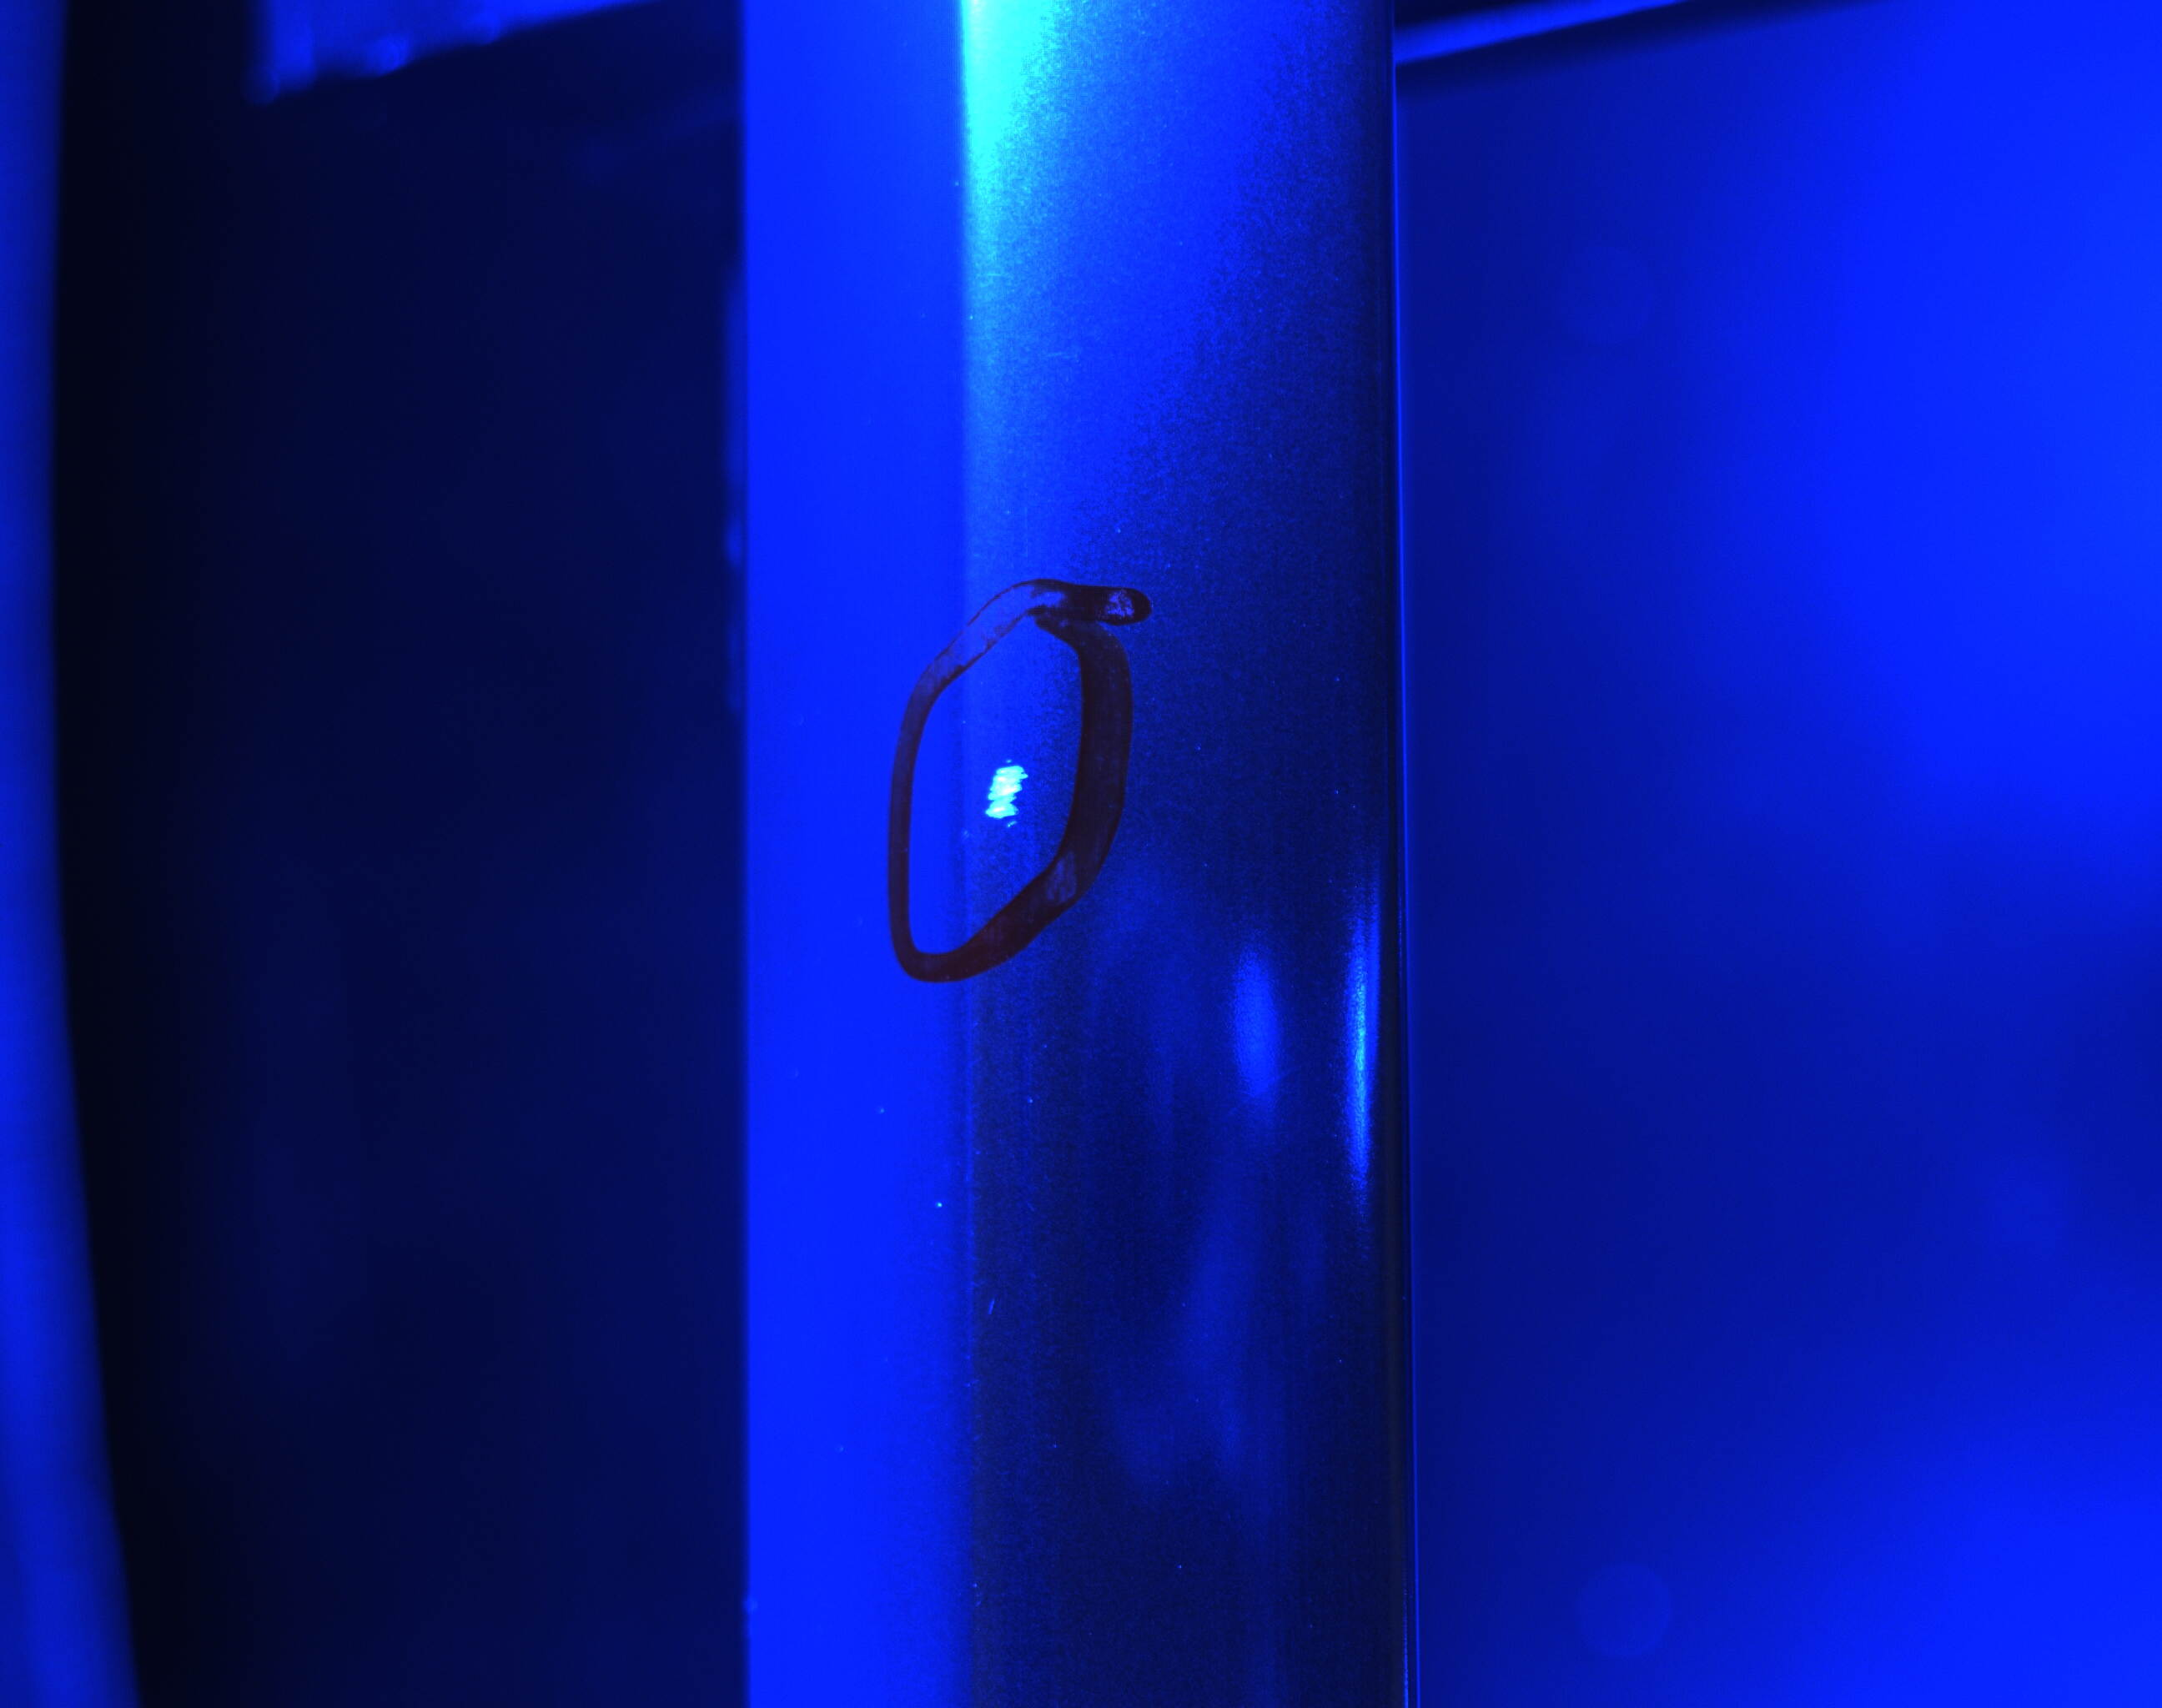NG: (979, 750, 1037, 839)
